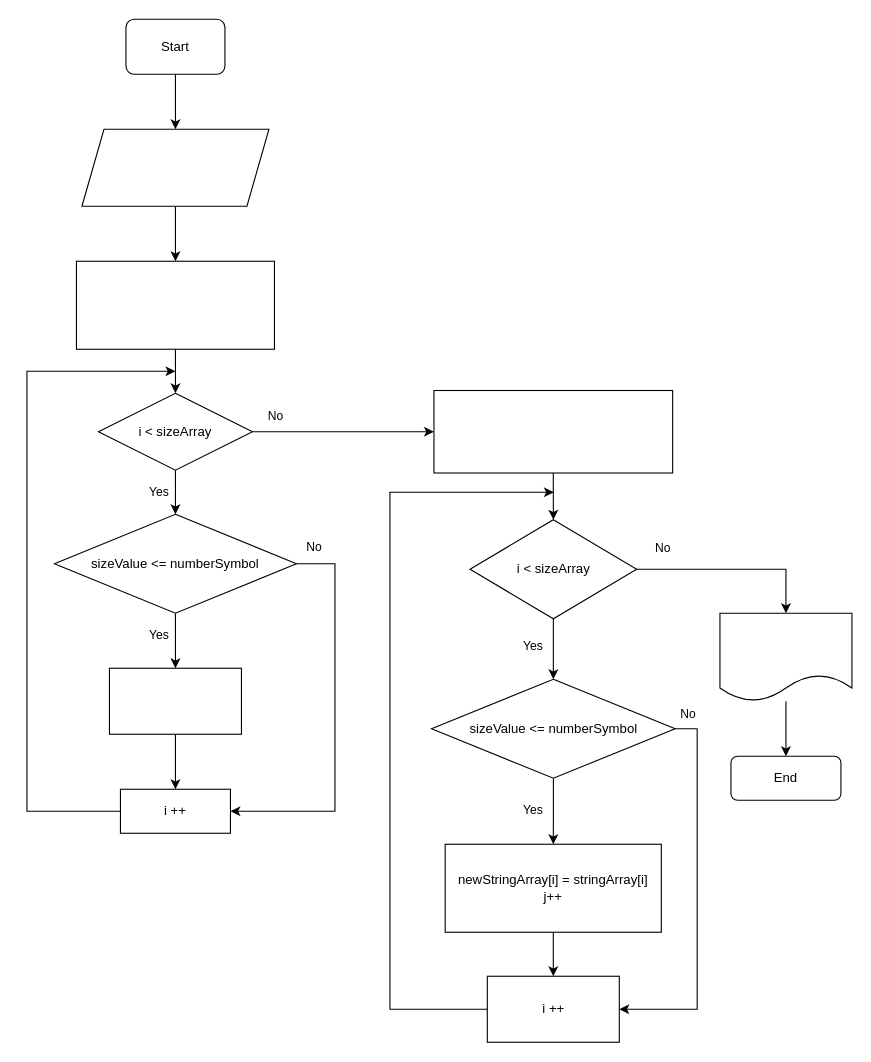
The diagram is 871 pixels wide and 1062 high, and some of its shapes have lost their labels. Each missing label, with the centre of its shape:
lengthNewArray ++: point 174,700
lengthNewArray = 0 i = 0 value = stringArray[i] sizeValue numberSymbol = 3: point 174,304
newStringArray: point 785,656
NewStringArray = string[lengthNewArray] i = 0 j = 0: point 553,431
stringArray[sizeArray] sizeArray: point 175,167
